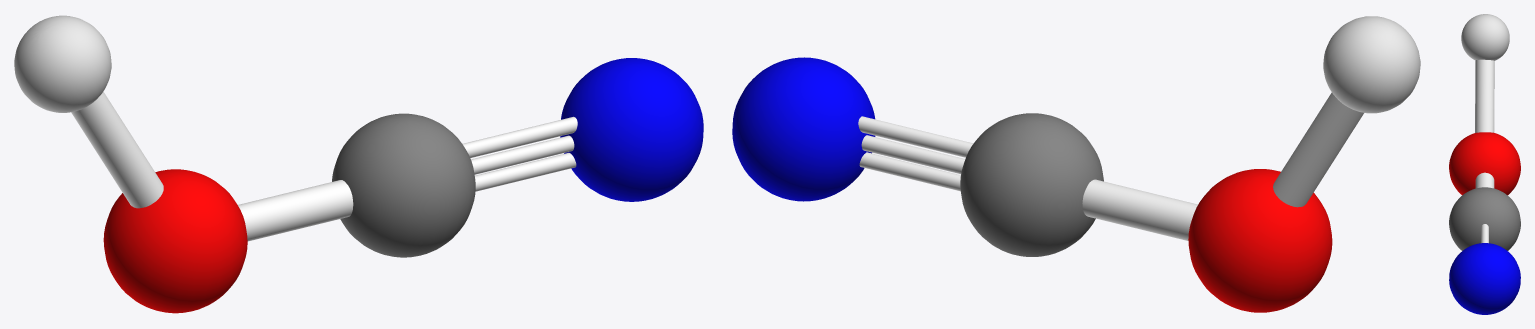
File: Cyanic_Acid.dae
3 views of the same model, side by side, from view 1: azimuth 30°, elevation 25°; view 2: azimuth 150°, elevation 25°; view 3: azimuth 270°, elevation 25° (orthographic). The views are drawn at different scales.
Visible parts, largest first — view 1: Cyanic_Acid__Methane_Import_pSphere6, Cyanic_Acid_Cyanic_Acid, Cyanic_Acid__Methane_Import_pSphere7, Cyanic_Acid__Methane_Import_pSphere5, Cyanic_Acid__Methane_Import_pCylinder6, pCylinder1_Cyanic_Acid, Cyanic_Acid_pCylinder3, Cyanic_Acid_pCylinder2, Cyanic_Acid_pCylinder4; view 2: Cyanic_Acid__Methane_Import_pSphere6, Cyanic_Acid_Cyanic_Acid, Cyanic_Acid__Methane_Import_pSphere7, Cyanic_Acid__Methane_Import_pSphere5, Cyanic_Acid__Methane_Import_pCylinder6, pCylinder1_Cyanic_Acid, Cyanic_Acid_pCylinder3, Cyanic_Acid_pCylinder2, Cyanic_Acid_pCylinder4; view 3: Cyanic_Acid__Methane_Import_pSphere6, Cyanic_Acid_Cyanic_Acid, Cyanic_Acid__Methane_Import_pSphere7, Cyanic_Acid__Methane_Import_pSphere5, Cyanic_Acid__Methane_Import_pCylinder6, pCylinder1_Cyanic_Acid, Cyanic_Acid_pCylinder3.
Part boxes in pixels (bbox=[...]): Cyanic_Acid__Methane_Import_pSphere6: bbox=[560, 58, 703, 201]; Cyanic_Acid_Cyanic_Acid: bbox=[332, 113, 475, 257]; Cyanic_Acid__Methane_Import_pSphere7: bbox=[103, 169, 247, 313]; Cyanic_Acid__Methane_Import_pSphere5: bbox=[14, 15, 111, 112]; Cyanic_Acid__Methane_Import_pCylinder6: bbox=[71, 91, 163, 208]; pCylinder1_Cyanic_Acid: bbox=[238, 180, 353, 241]; Cyanic_Acid_pCylinder3: bbox=[462, 116, 577, 157]; Cyanic_Acid_pCylinder2: bbox=[471, 135, 574, 174]; Cyanic_Acid_pCylinder4: bbox=[475, 152, 576, 191]; Cyanic_Acid__Methane_Import_pSphere6: bbox=[732, 57, 875, 201]; Cyanic_Acid_Cyanic_Acid: bbox=[960, 113, 1103, 256]; Cyanic_Acid__Methane_Import_pSphere7: bbox=[1188, 169, 1332, 312]; Cyanic_Acid__Methane_Import_pSphere5: bbox=[1323, 16, 1420, 113]; Cyanic_Acid__Methane_Import_pCylinder6: bbox=[1273, 92, 1363, 207]; pCylinder1_Cyanic_Acid: bbox=[1082, 179, 1197, 240]; Cyanic_Acid_pCylinder3: bbox=[858, 116, 973, 157]; Cyanic_Acid_pCylinder2: bbox=[861, 135, 965, 174]; Cyanic_Acid_pCylinder4: bbox=[859, 152, 960, 191]; Cyanic_Acid__Methane_Import_pSphere6: bbox=[1449, 243, 1520, 314]; Cyanic_Acid_Cyanic_Acid: bbox=[1449, 187, 1520, 250]; Cyanic_Acid__Methane_Import_pSphere7: bbox=[1449, 132, 1520, 195]; Cyanic_Acid__Methane_Import_pSphere5: bbox=[1461, 14, 1509, 60]; Cyanic_Acid__Methane_Import_pCylinder6: bbox=[1475, 59, 1494, 132]; pCylinder1_Cyanic_Acid: bbox=[1475, 172, 1494, 188]; Cyanic_Acid_pCylinder3: bbox=[1481, 224, 1488, 243].
Size of the model in its own units: 3.98 by 0.7376 by 1.77.
